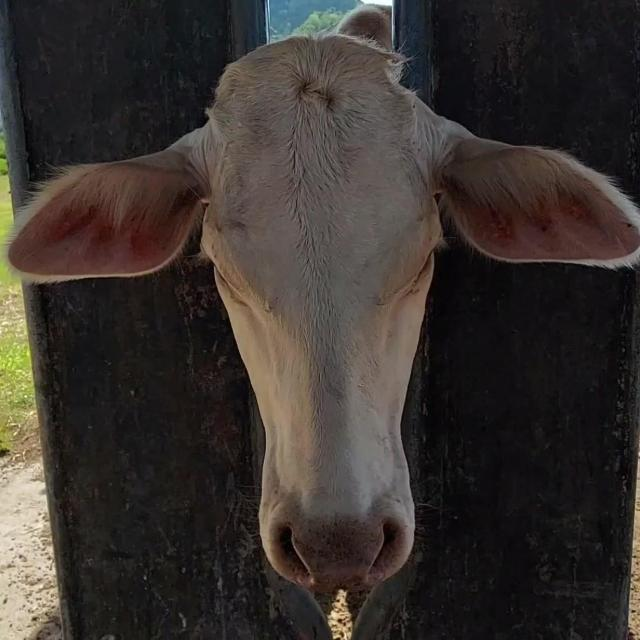cowFace: (203, 35, 442, 591)
